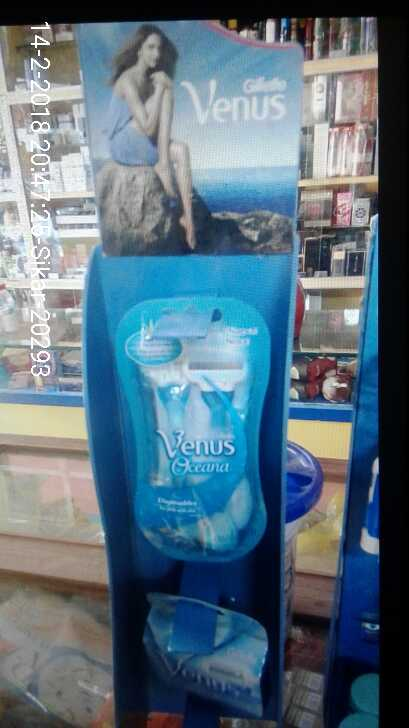venus: (111, 291, 275, 575), (139, 583, 274, 718)
